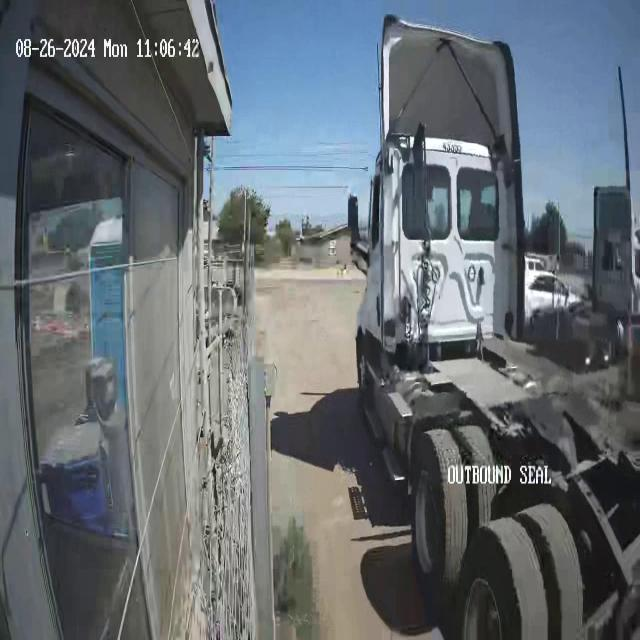BOBTAIL: (347, 13, 639, 638)
